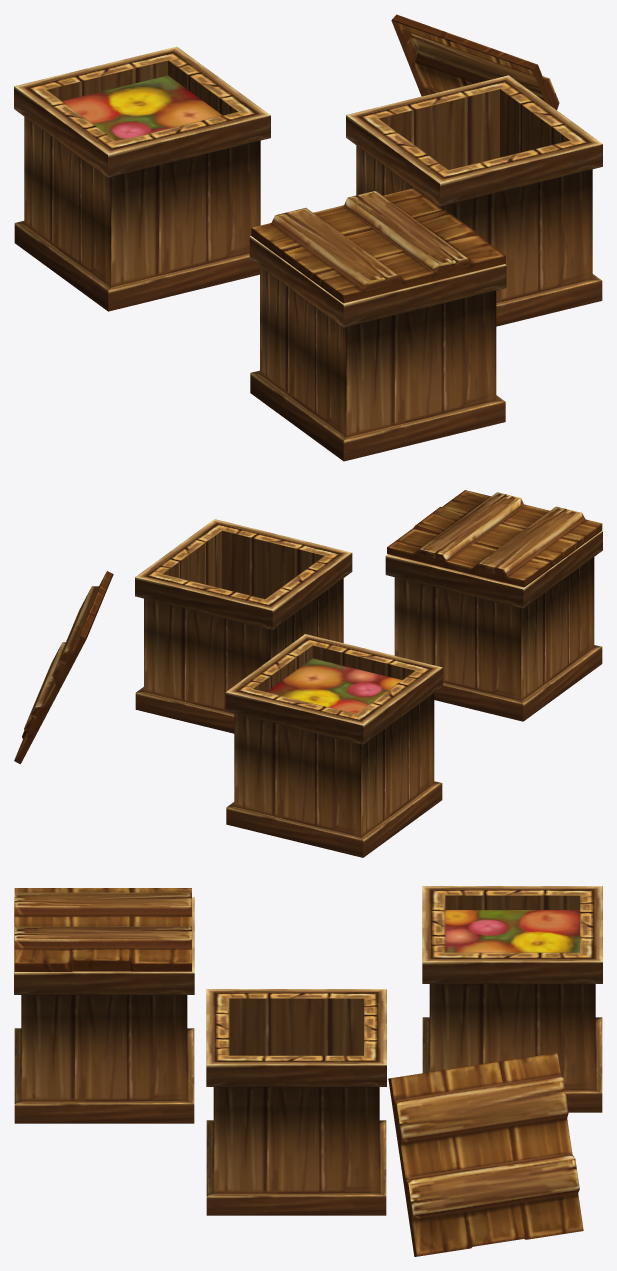
The model's file is MuXiang02.FBX.
The picture shows the model from 3 angles, top to bottom: view 1: azimuth 30°, elevation 25°; view 2: azimuth 150°, elevation 25°; view 3: azimuth 270°, elevation 25°; orthographic projection. The views are drawn at different scales.
Parts seen in each view (by area): view 1: MuXiang02; view 2: MuXiang02; view 3: MuXiang02.
Part boxes in pixels (x1,y1,x2,y2): MuXiang02: (14,14,602,461); MuXiang02: (14,490,602,857); MuXiang02: (14,886,602,1256).
Size of the model in its own units: 107 by 37.07 by 119.
